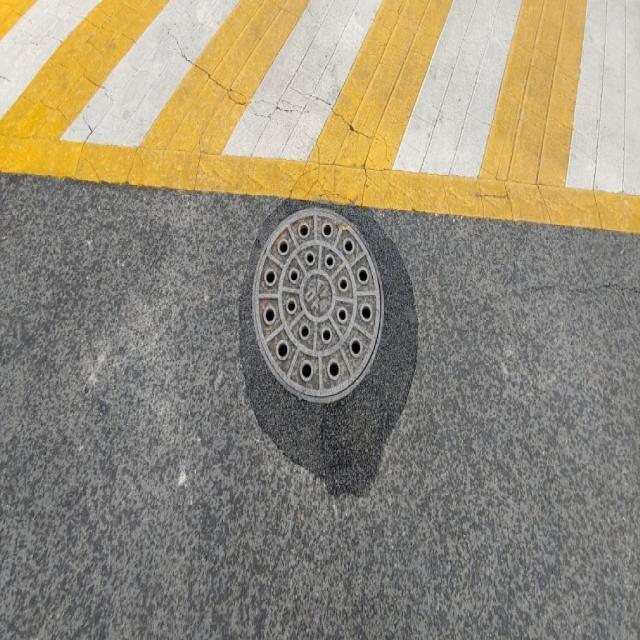manhole: (252, 208, 384, 403)
